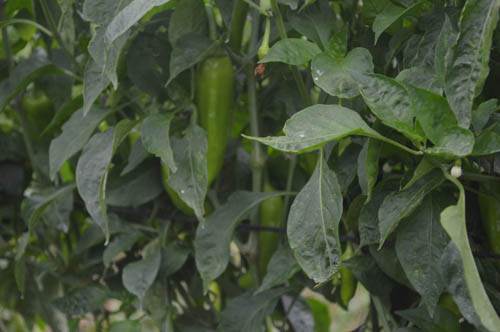ChiliPepper: (200, 57, 235, 196), (254, 190, 286, 279), (161, 149, 199, 221), (24, 93, 56, 137), (335, 249, 358, 309)
